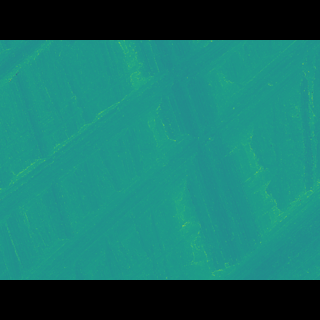Loch: (19, 69, 320, 249), (0, 69, 248, 209), (227, 178, 320, 249), (0, 69, 62, 105)
